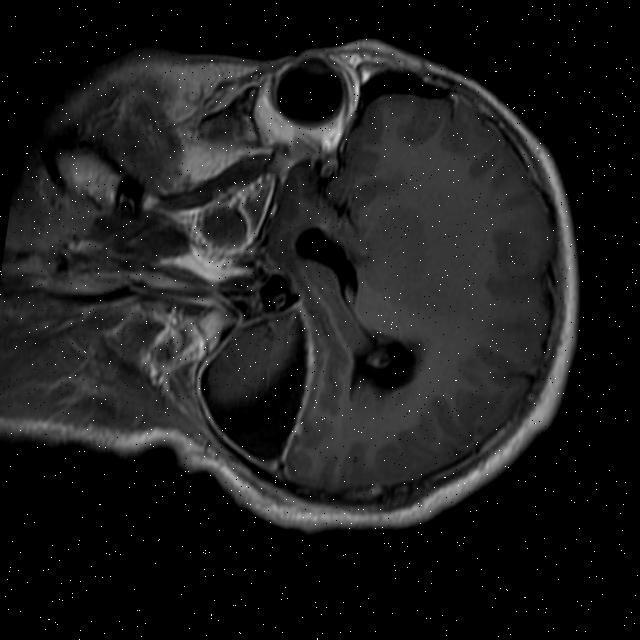Glioma: (183, 294, 323, 482)
